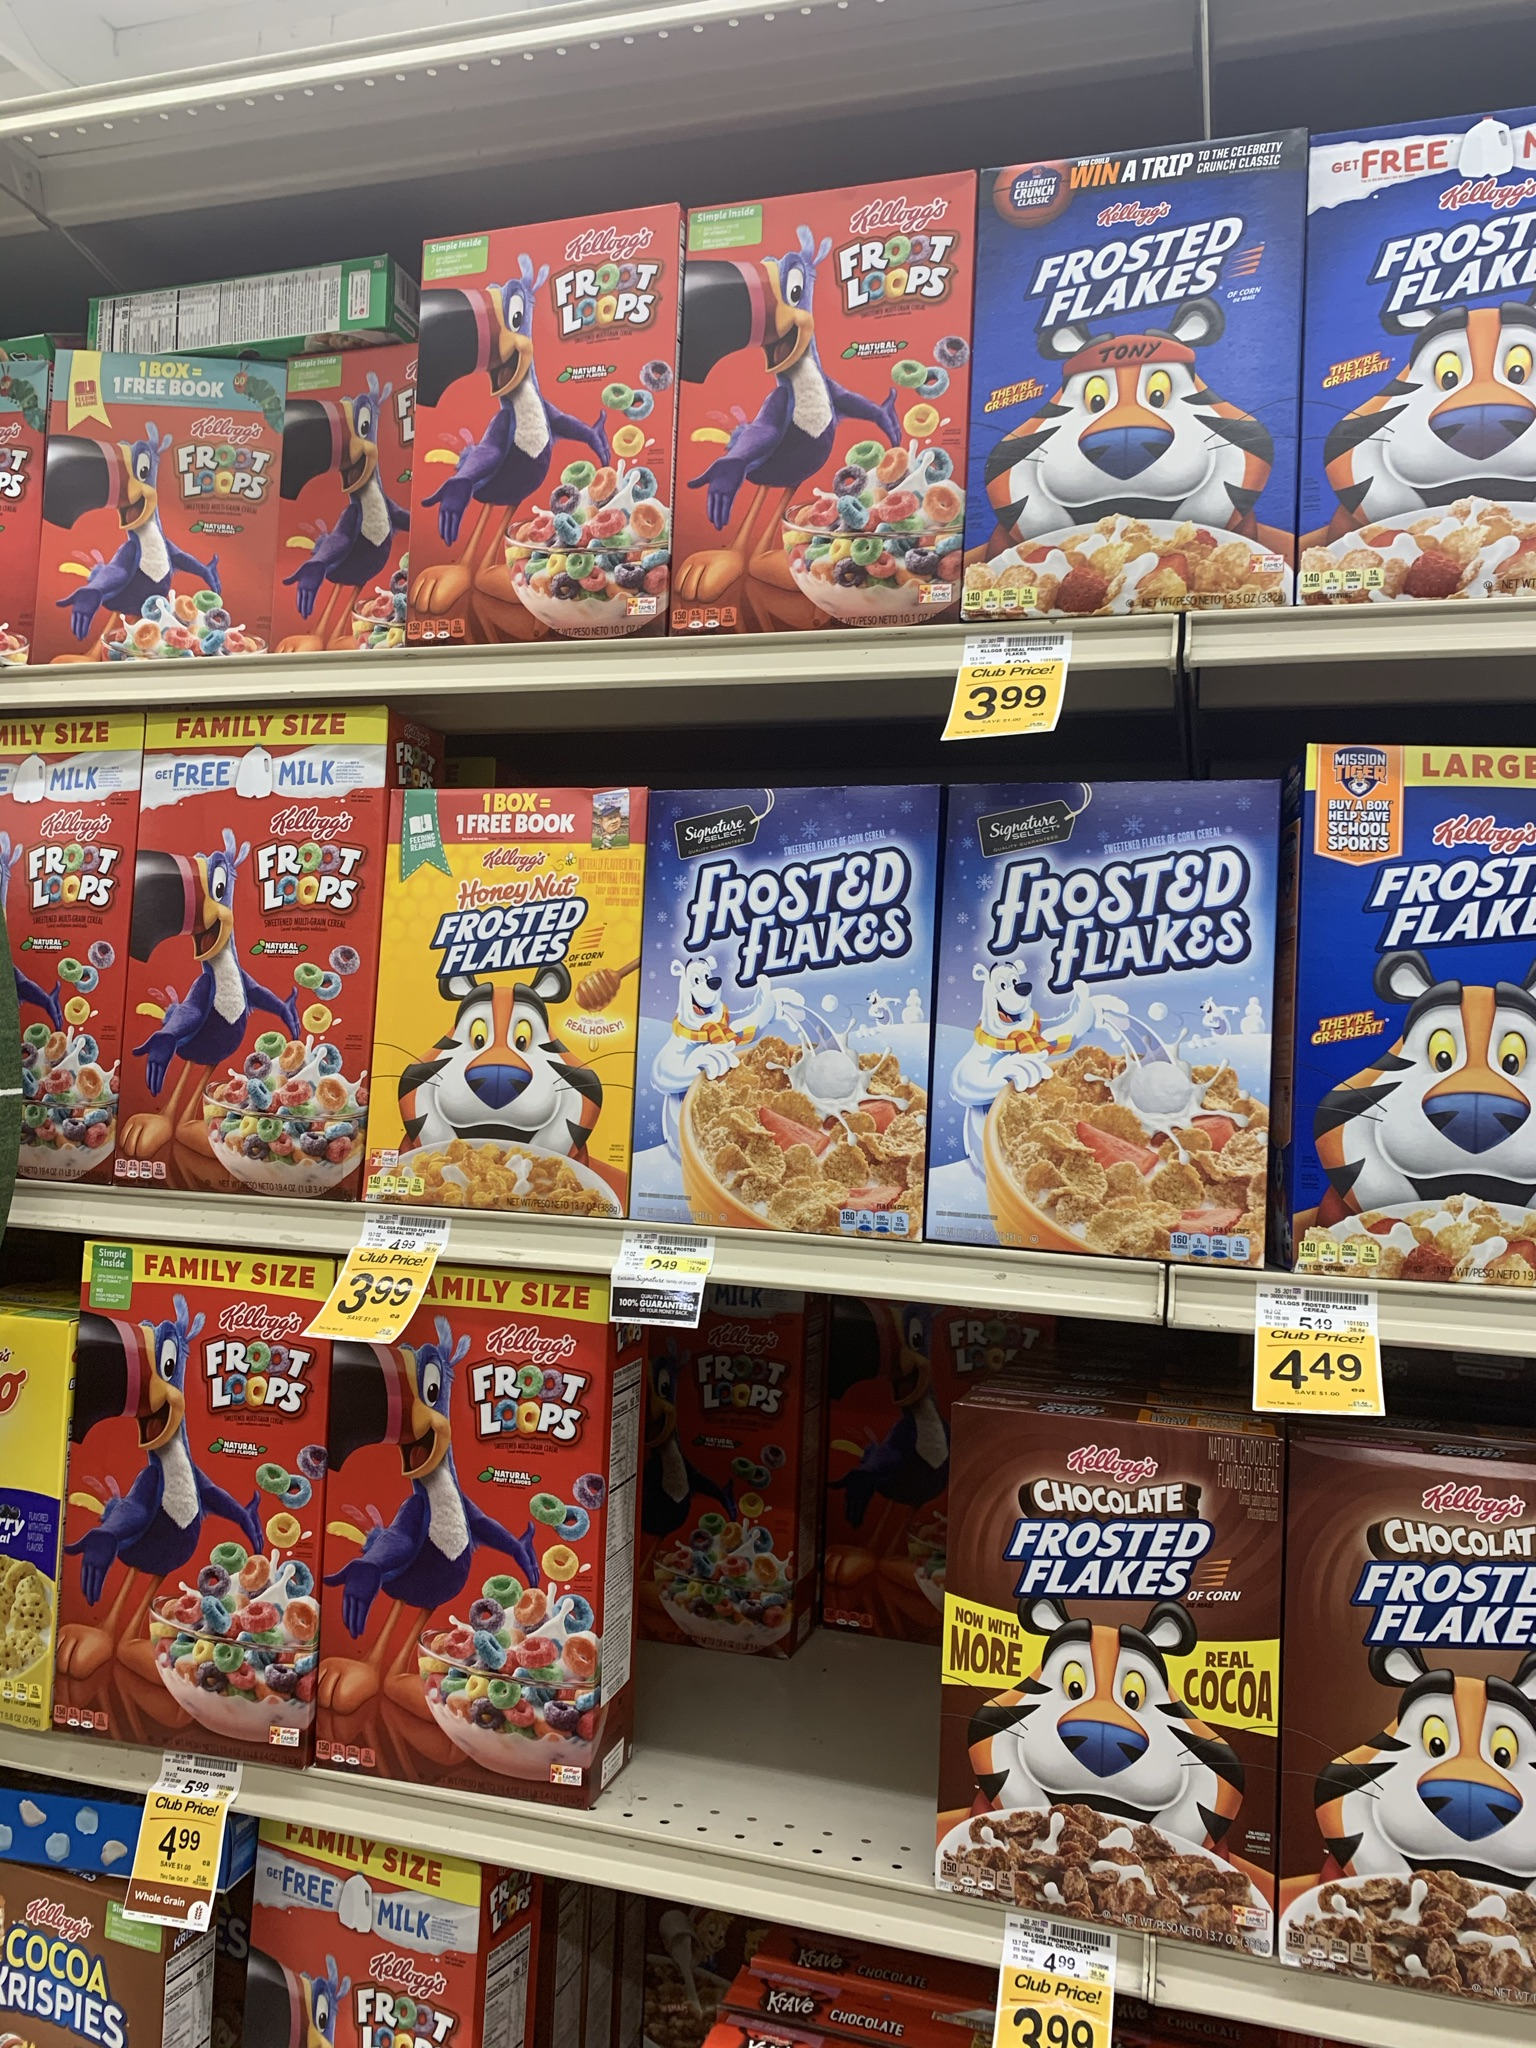cereal: (966, 1414, 1276, 1954), (950, 792, 1262, 1259), (318, 1288, 615, 1755), (979, 161, 1288, 608), (1296, 1442, 1536, 1992), (1292, 743, 1536, 1272), (649, 785, 931, 1240), (684, 200, 958, 631), (150, 719, 376, 1213), (82, 1247, 298, 1740), (1312, 140, 1536, 587), (423, 235, 671, 639), (390, 797, 628, 1200), (65, 353, 278, 669), (252, 1819, 476, 2048), (2, 1871, 186, 2048)
